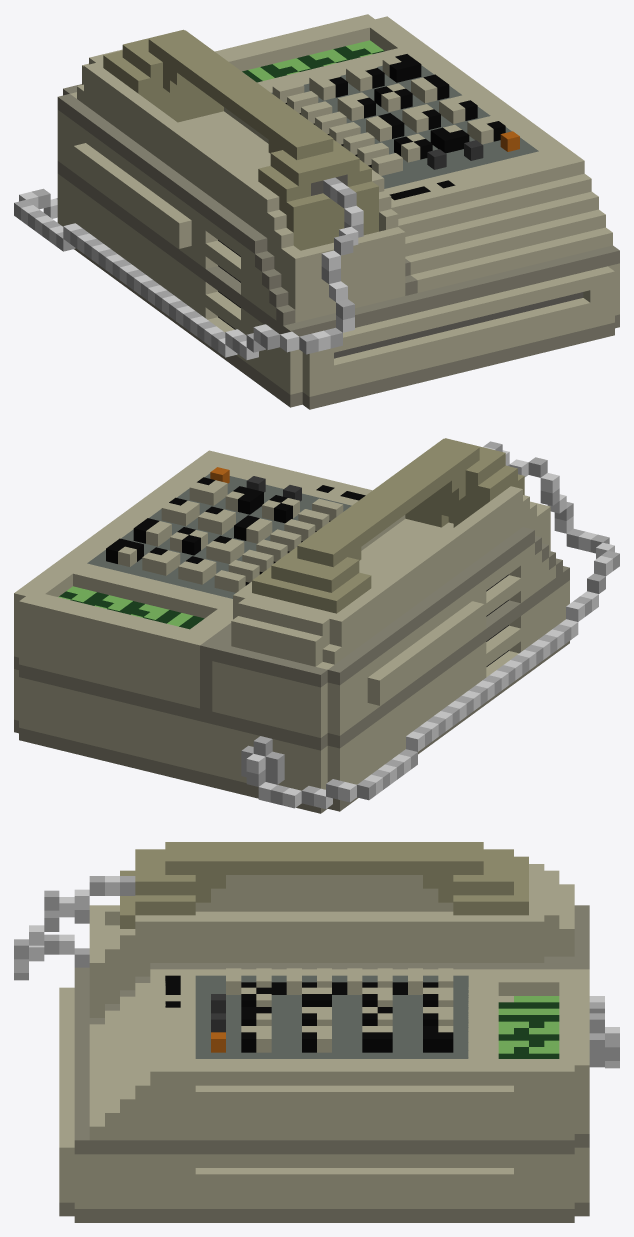
Rendered from 1980s Desk Landline Phone - Version 1.fbx.
The picture shows the model from 3 angles, top to bottom: view 1: azimuth 30°, elevation 25°; view 2: azimuth 150°, elevation 25°; view 3: azimuth 270°, elevation 25°; orthographic projection. The views are drawn at different scales.
Visible parts, largest first — view 1: 1980sPhone; view 2: 1980sPhone; view 3: 1980sPhone.
Boxes of the visible parts, <box> form: 1980sPhone: <box>14,14,619,409</box>; 1980sPhone: <box>14,438,619,813</box>; 1980sPhone: <box>14,842,619,1222</box>.
Bounding box in the file's own units: 3100 × 1700 × 4000.
